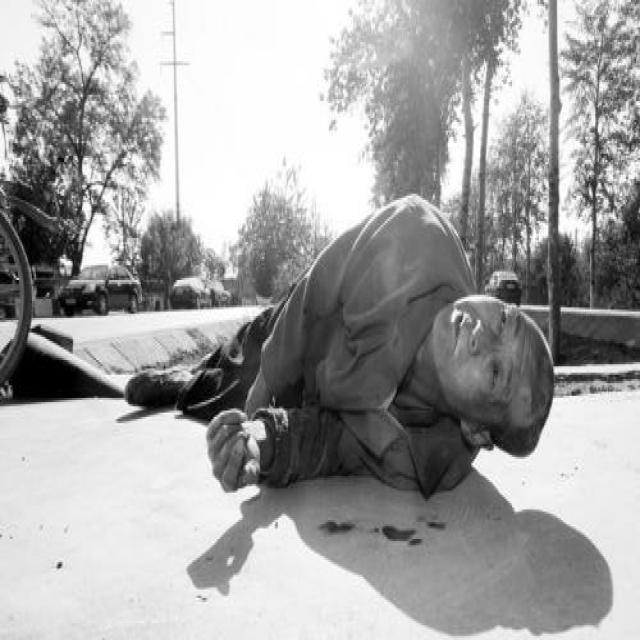down: (118, 187, 558, 503)
